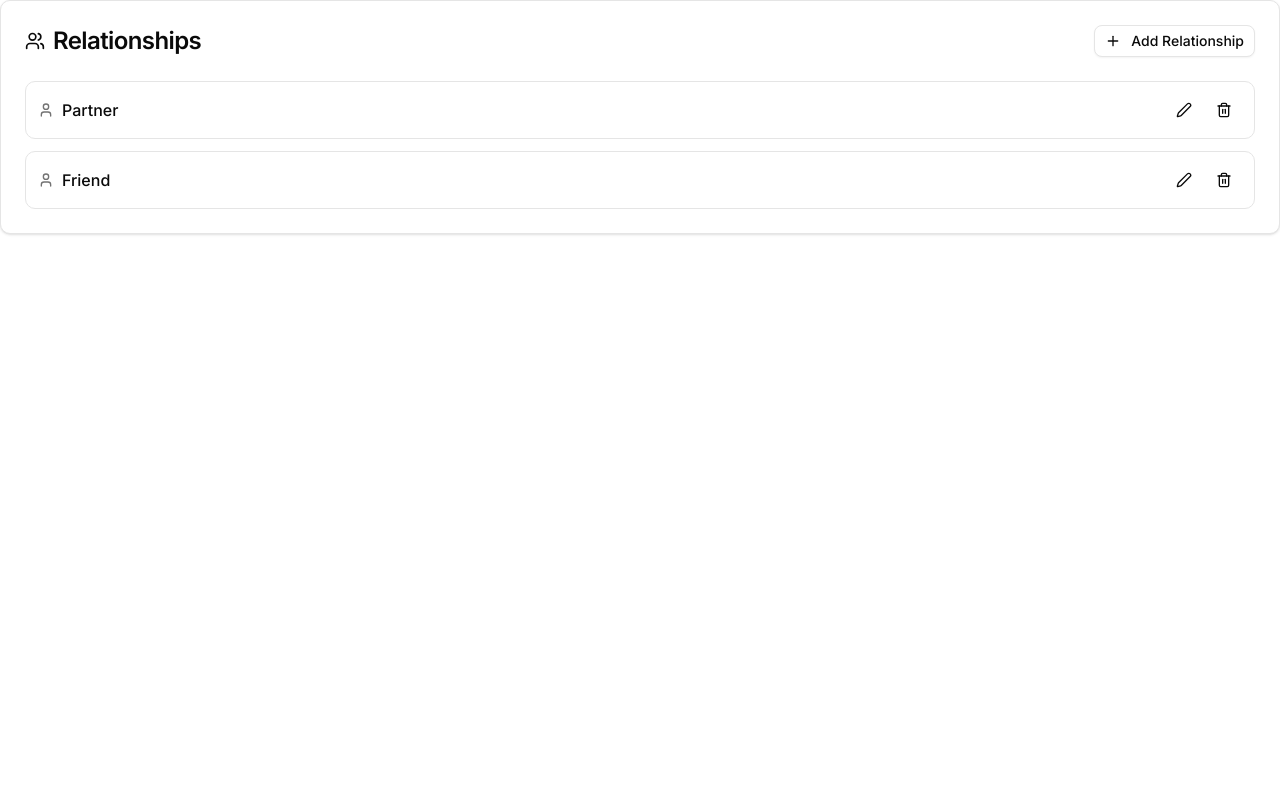
Scenario: RelationshipsList › opens add relationship form when button clicked
The image size is (1280, 800).
Click the button "Add Relationship": (1175, 41) top-left (1094, 25), bottom-right (1255, 57)
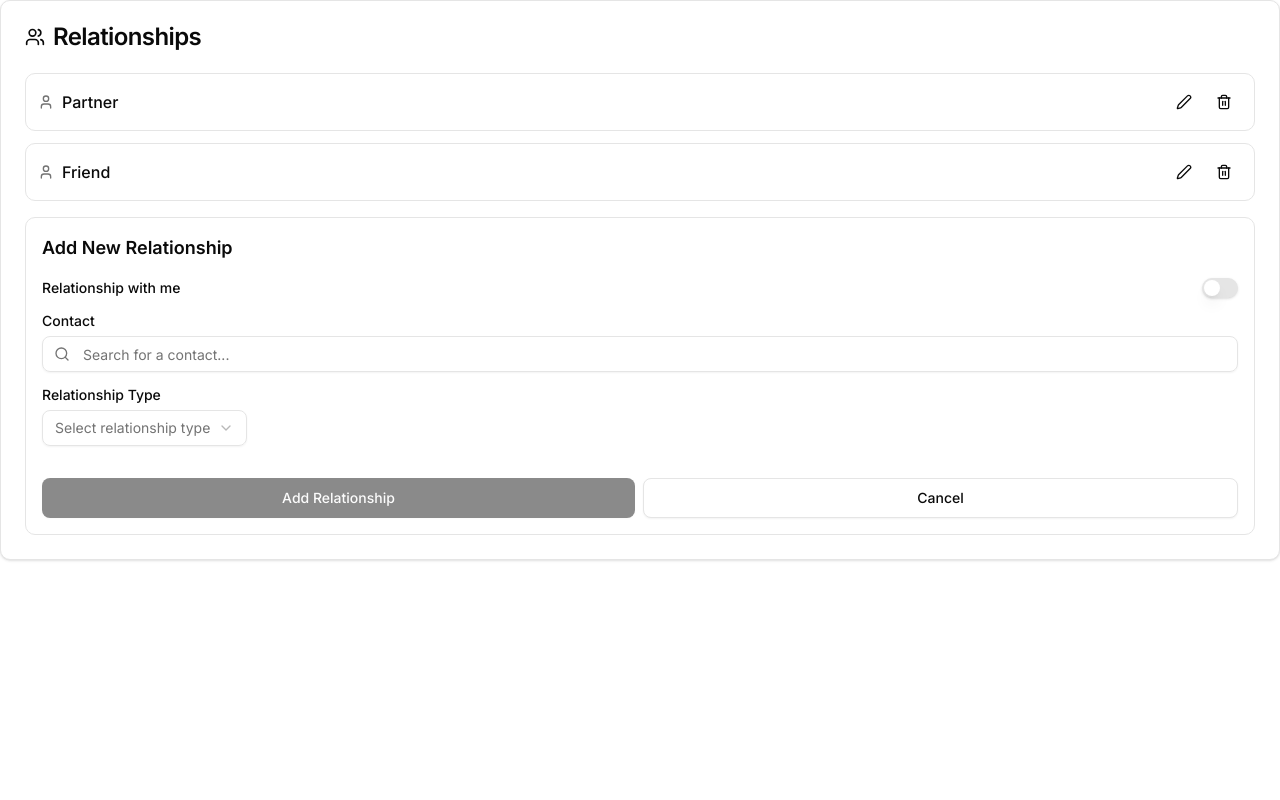
Expected: the heading "Add New Relationship" is shown, top-left (42, 237), bottom-right (233, 258)
